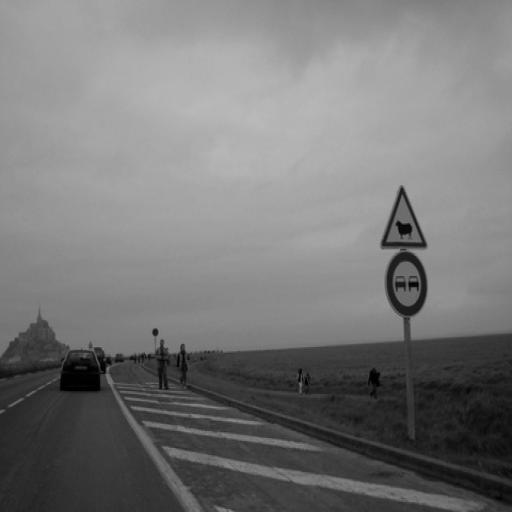car: (61, 347, 101, 390), (87, 346, 108, 376), (114, 351, 124, 363), (104, 354, 113, 366), (129, 354, 136, 361)
person: (154, 338, 172, 387), (175, 341, 190, 387), (366, 366, 381, 401), (295, 367, 304, 395), (304, 372, 311, 396), (134, 352, 136, 362), (138, 354, 140, 363)
